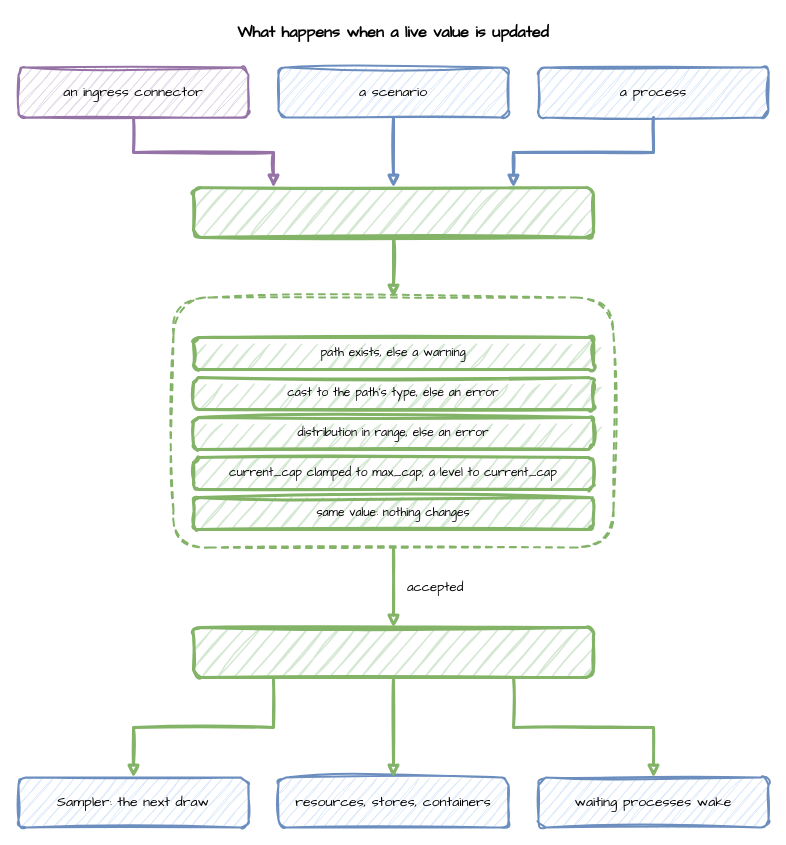
This 786x845 diagram has some shape labels left out. The box of each missing label's shape, as (x1, y1, x2, y2) in pixels:
checks, in order: (172, 296, 614, 548)
registry.update(path, value): (192, 186, 594, 238)
stores the value and updates the parameter's config: (192, 626, 594, 678)
